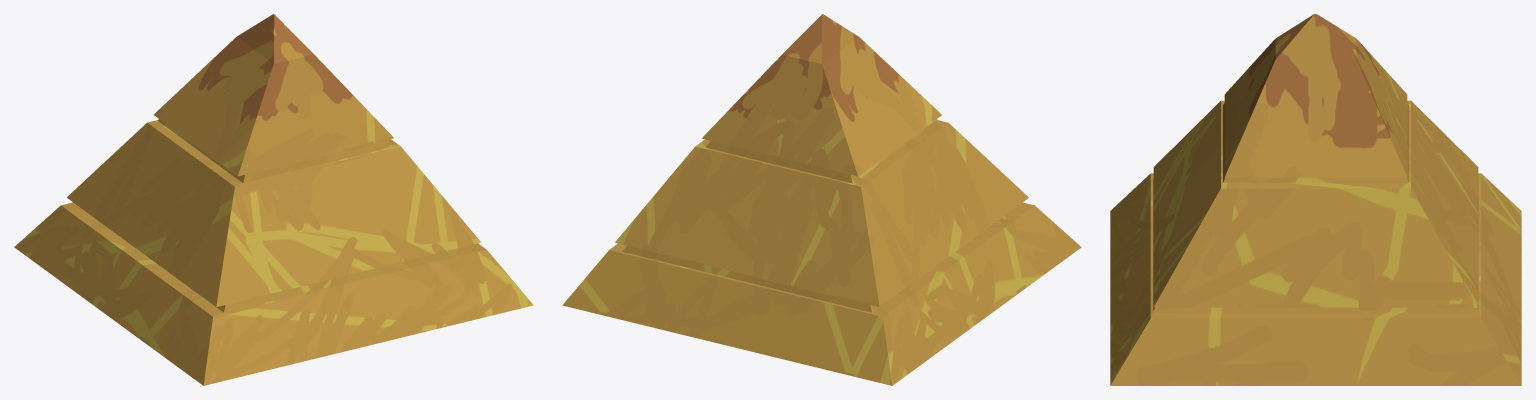
The model's file is piramide.fbx.
3 renders of one model, left to right at view 1: azimuth 30°, elevation 25°; view 2: azimuth 150°, elevation 25°; view 3: azimuth 270°, elevation 25°, orthographic. The views are drawn at different scales.
Visible parts, largest first — view 1: pirame_LOD0; view 2: pirame_LOD0; view 3: pirame_LOD0.
Boxes of the visible parts, x1=… form: pirame_LOD0: x1=14, y1=14, x2=533, y2=385; pirame_LOD0: x1=562, y1=14, x2=1081, y2=385; pirame_LOD0: x1=1110, y1=14, x2=1521, y2=385.
Size of what is drawn, in the model's own units: 2.89 by 2.19 by 2.87.
1 material, 1 textured.
